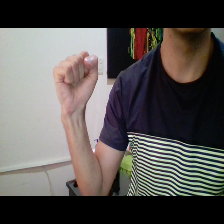9D: (40, 44, 108, 118)
